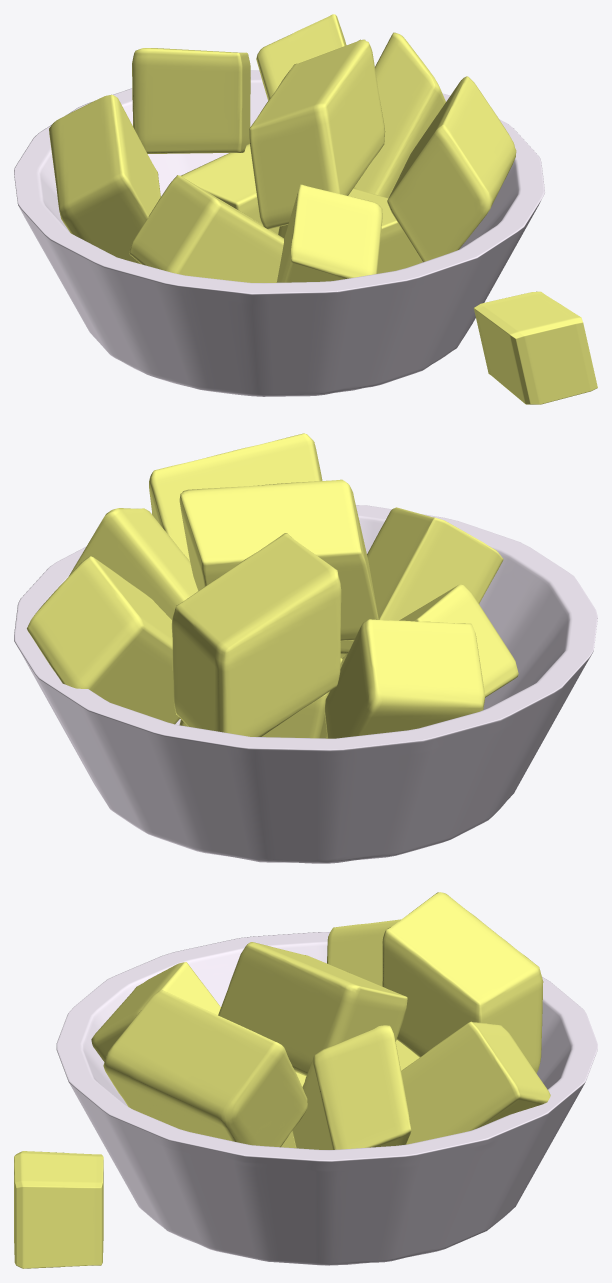
File: Butter.fbx
3 renders of one model, top to bottom at view 1: azimuth 30°, elevation 25°; view 2: azimuth 150°, elevation 25°; view 3: azimuth 270°, elevation 25°, orthographic. The views are drawn at different scales.
Parts seen in each view (by area): view 1: ButterCube9, BowlofButterCubes, ButterCube10; view 2: ButterCube9, BowlofButterCubes; view 3: ButterCube9, BowlofButterCubes, ButterCube10.
Part boxes in pixels (<box>): ButterCube9: <box>49,14,516,282</box>; BowlofButterCubes: <box>14,70,544,396</box>; ButterCube10: <box>473,291,597,404</box>; ButterCube9: <box>27,433,518,738</box>; BowlofButterCubes: <box>14,505,597,863</box>; ButterCube9: <box>91,892,550,1149</box>; BowlofButterCubes: <box>56,932,597,1265</box>; ButterCube10: <box>14,1151,103,1268</box>.
Size of the model in its own units: 32.73 by 17.02 by 35.28.
